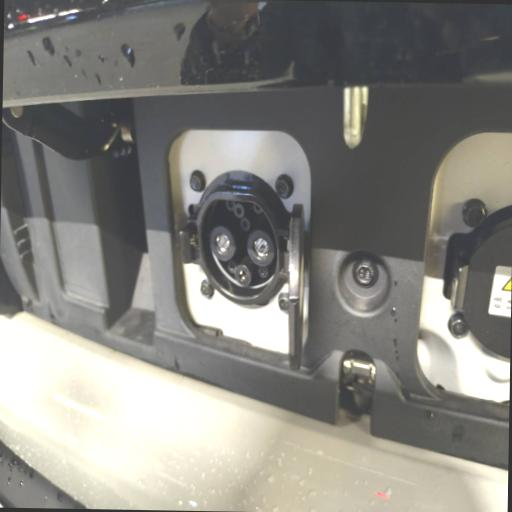DC_hole: (246, 228, 274, 266), (209, 226, 236, 263)
PE: (234, 264, 252, 288)
charging_port: (194, 188, 284, 308)
